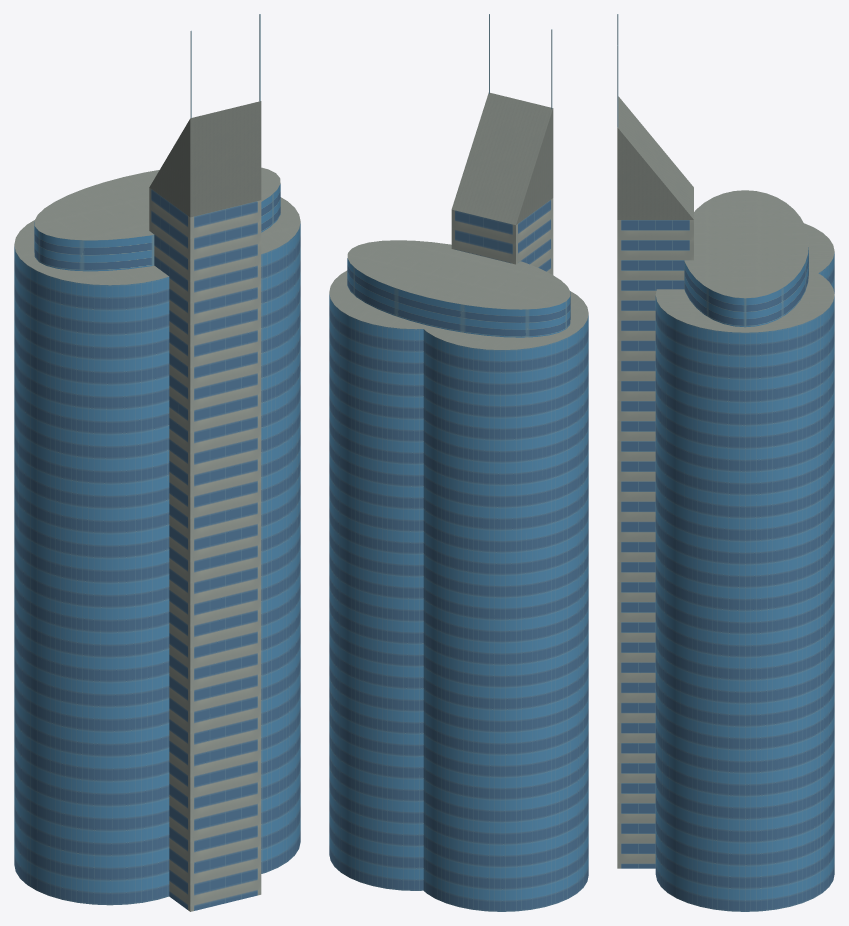
Rendered from milleniumstower.gltf.
3 renders of one model, left to right at view 1: azimuth 30°, elevation 25°; view 2: azimuth 150°, elevation 25°; view 3: azimuth 270°, elevation 25°, orthographic. The views are drawn at different scales.
Visible parts, largest first — view 1: Turm_1, Turm_Rückseite, Turm_2, Dach, Decke_Aufbau, Aufbau, Decke_Turm1, Decke_Turm_2; view 2: Turm_1, Turm_2, Dach, Decke_Aufbau, Aufbau, Turm_Rückseite, Decke_Turm1, Decke_Turm_2; view 3: Turm_2, Turm_Rückseite, Decke_Aufbau, Dach, Aufbau, Decke_Turm_2, Decke_Turm1.
Part boxes in pixels (bbox=[...]): Turm_1: bbox=[14, 246, 169, 905]; Turm_Rückseite: bbox=[149, 188, 261, 911]; Turm_2: bbox=[261, 223, 300, 873]; Dach: bbox=[149, 101, 261, 217]; Decke_Aufbau: bbox=[34, 167, 280, 240]; Aufbau: bbox=[34, 184, 280, 271]; Decke_Turm1: bbox=[14, 220, 168, 285]; Decke_Turm_2: bbox=[261, 197, 300, 253]; Turm_1: bbox=[423, 315, 588, 911]; Turm_2: bbox=[329, 294, 423, 890]; Dach: bbox=[451, 92, 553, 224]; Decke_Aufbau: bbox=[347, 240, 570, 309]; Aufbau: bbox=[347, 258, 570, 337]; Turm_Rückseite: bbox=[451, 198, 553, 274]; Decke_Turm1: bbox=[419, 291, 588, 349]; Decke_Turm_2: bbox=[329, 270, 437, 329]; Turm_2: bbox=[655, 296, 834, 911]; Turm_Rückseite: bbox=[617, 220, 693, 868]; Decke_Aufbau: bbox=[684, 190, 808, 298]; Dach: bbox=[617, 96, 693, 219]; Aufbau: bbox=[684, 247, 808, 327]; Decke_Turm_2: bbox=[655, 268, 834, 332]; Decke_Turm1: bbox=[804, 223, 834, 277].
Size of the model in its own units: 1.1 by 3.55 by 0.85.
3 materials, 3 textured.
